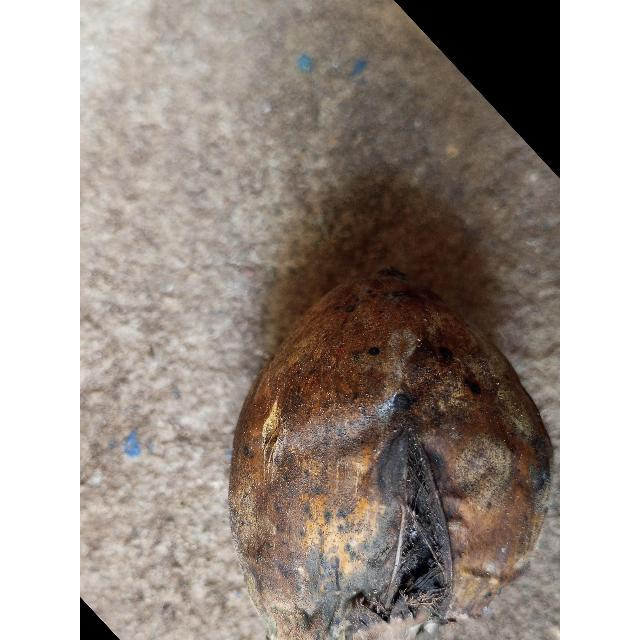damaged: (229, 268, 551, 640)
